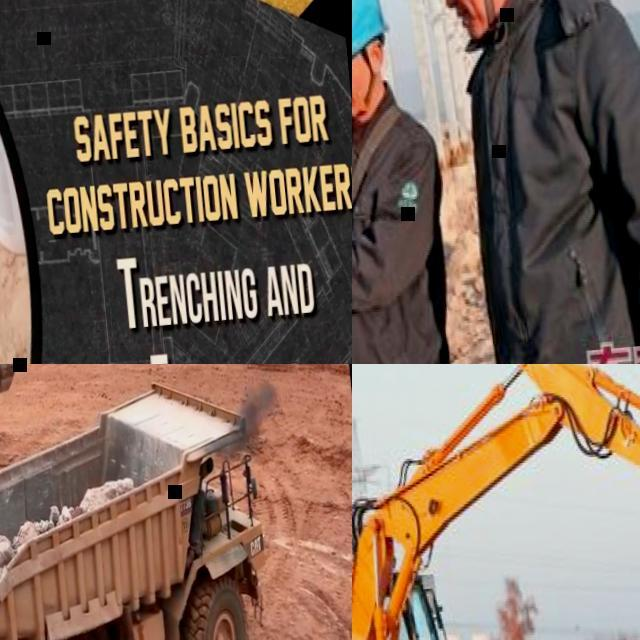helmet: (352, 0, 388, 67)
